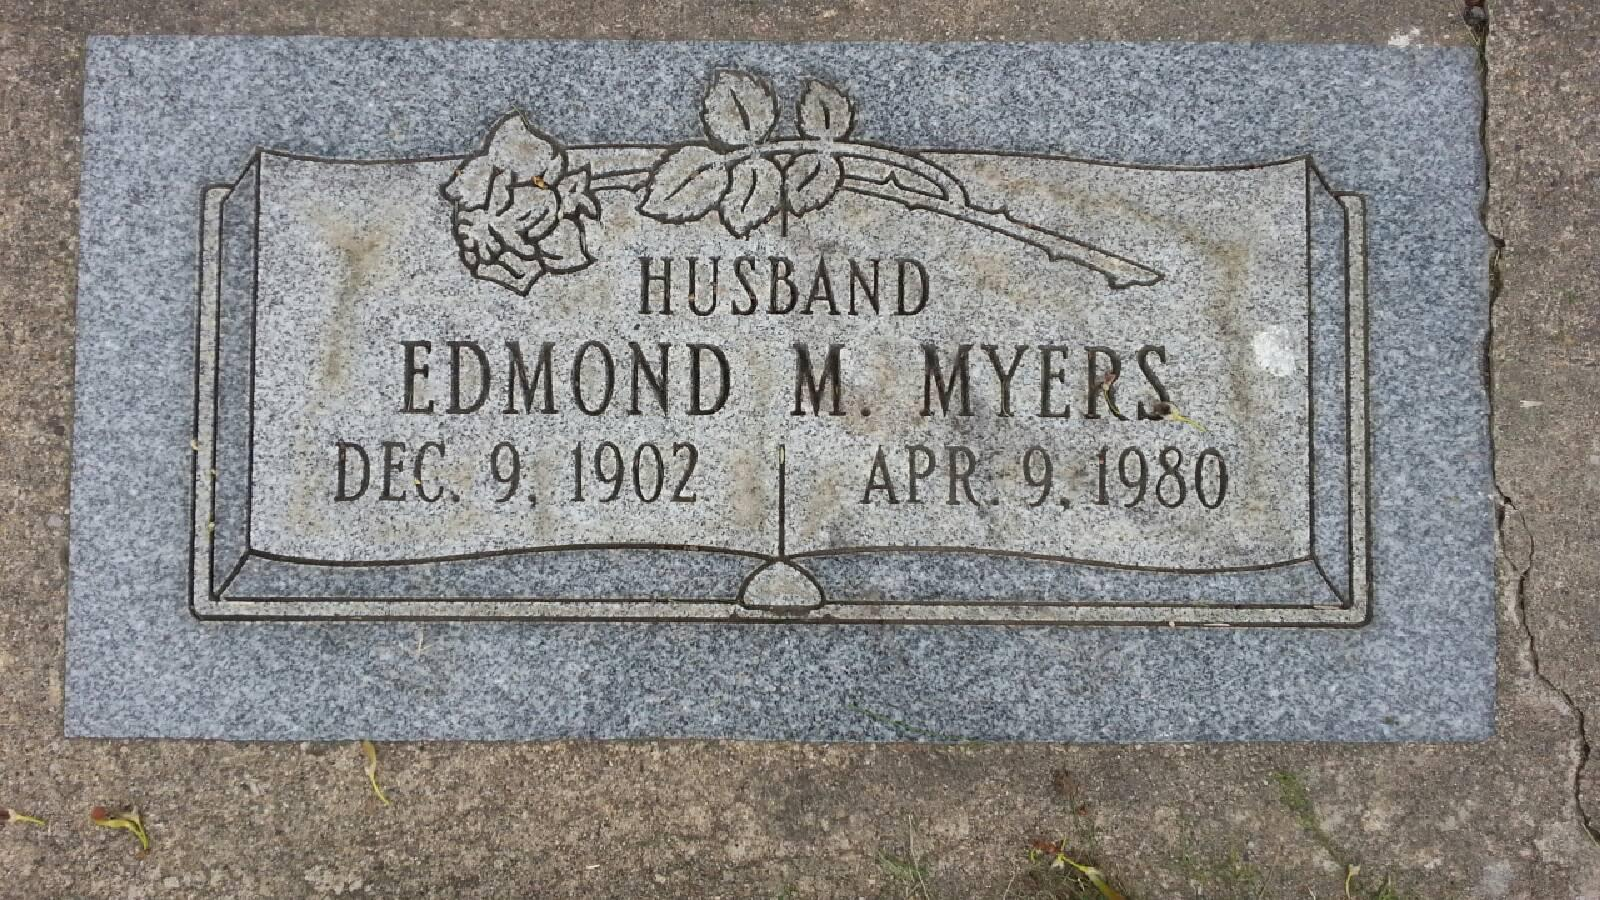flat: (73, 38, 1502, 749)
